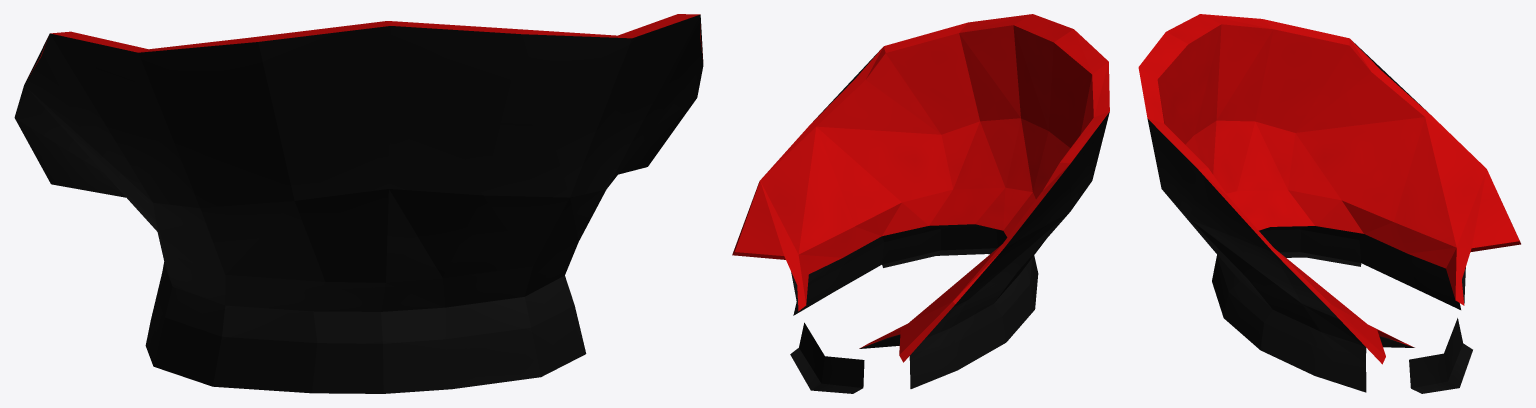
The model's file is VAMPIRE COLLAR.fbx.
The picture shows the model from 3 angles, left to right: view 1: azimuth 30°, elevation 25°; view 2: azimuth 150°, elevation 25°; view 3: azimuth 270°, elevation 25°; orthographic projection. The views are drawn at different scales.
Parts seen in each view (by area): view 1: VAMPIRE_COLLAR; view 2: VAMPIRE_COLLAR; view 3: VAMPIRE_COLLAR.
Part boxes in pixels (x1=…): VAMPIRE_COLLAR: x1=14, y1=14, x2=703, y2=393; VAMPIRE_COLLAR: x1=732, y1=14, x2=1109, y2=393; VAMPIRE_COLLAR: x1=1138, y1=14, x2=1520, y2=393.
Size of the model in its own units: 40.72 by 34.56 by 40.59.
